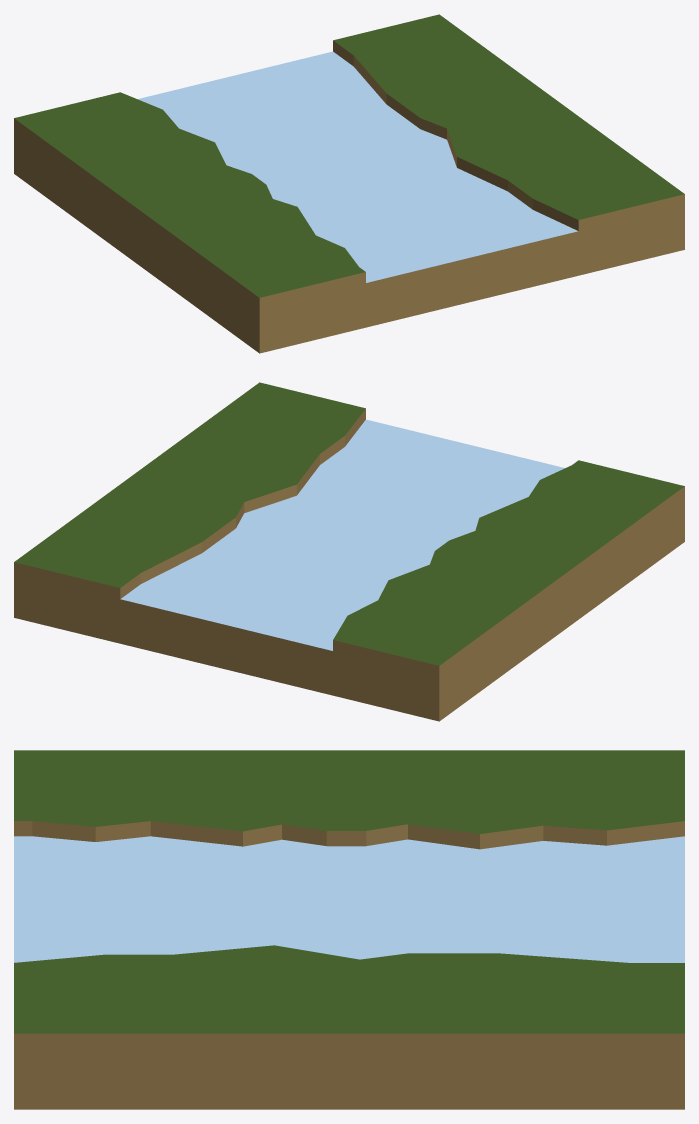
File: Terrain_Tile_Grass_Dirt_River_03.fbx
3 renders of one model, top to bottom at view 1: azimuth 30°, elevation 25°; view 2: azimuth 150°, elevation 25°; view 3: azimuth 270°, elevation 25°, orthographic. The views are drawn at different scales.
Visible parts, largest first — view 1: Terrain_Tile_Grass_Dirt_River_03; view 2: Terrain_Tile_Grass_Dirt_River_03; view 3: Terrain_Tile_Grass_Dirt_River_03.
Part boxes in pixels (bbox=[...]): Terrain_Tile_Grass_Dirt_River_03: bbox=[14, 14, 684, 353]; Terrain_Tile_Grass_Dirt_River_03: bbox=[14, 382, 684, 721]; Terrain_Tile_Grass_Dirt_River_03: bbox=[14, 750, 684, 1109].
Size of the model in its own units: 126 by 15.75 by 126.
